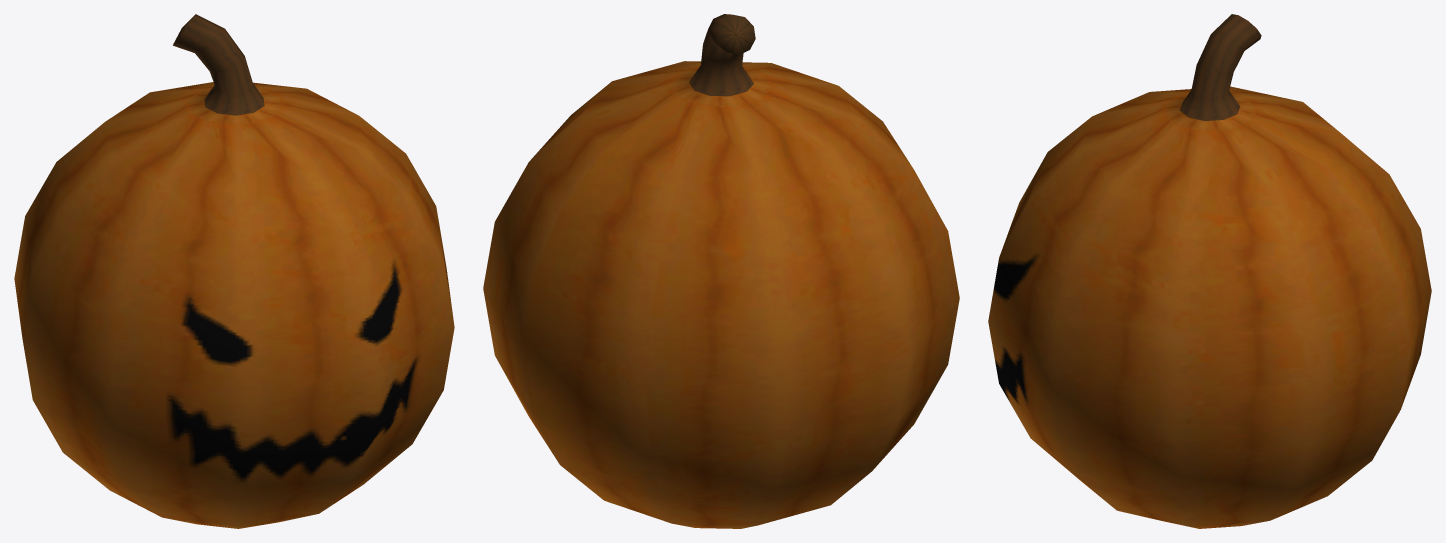
File: hat1_1.glb
3 renders of one model, left to right at view 1: azimuth 30°, elevation 25°; view 2: azimuth 150°, elevation 25°; view 3: azimuth 270°, elevation 25°, orthographic. The views are drawn at different scales.
Visible parts, largest first — view 1: PumpkinMask; view 2: PumpkinMask; view 3: PumpkinMask.
Boxes of the visible parts, left/top/right/bottom form: PumpkinMask: left=14, top=14, right=454, bottom=528; PumpkinMask: left=483, top=14, right=959, bottom=528; PumpkinMask: left=988, top=14, right=1431, bottom=528.
Bounding box in the file's own units: 18.67 × 22.38 × 18.64.
1 material, 1 textured.
